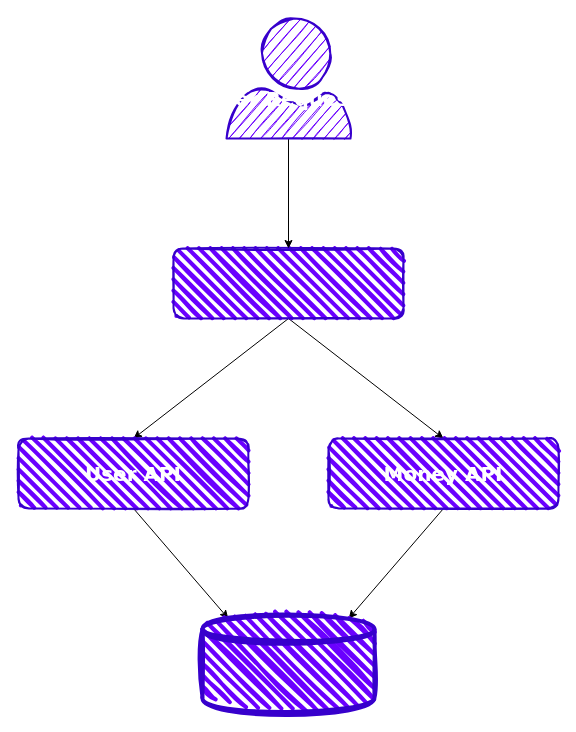
This 576x732 diagram has some shape labels left out. The shapes that lost their labels are listed below. From the top down, each one's centre as x and y in pixels, then its label:
the point at 288,283: Frontend Service
the point at 288,663: MySQL
